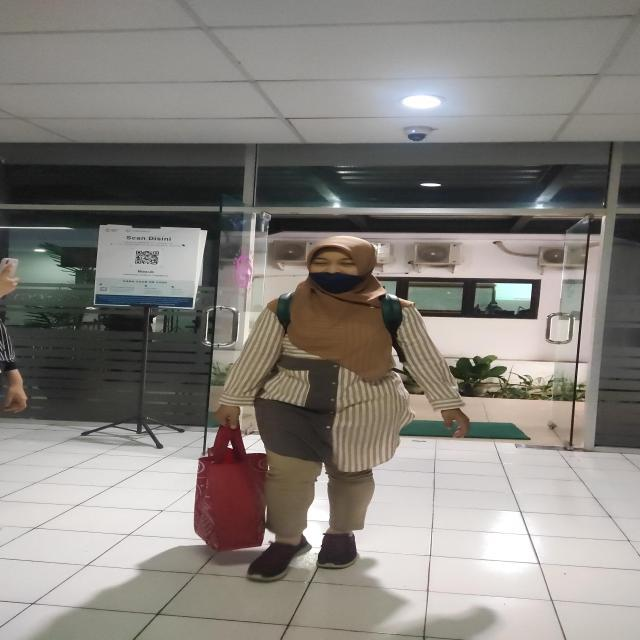hairnet: (297, 233, 385, 296)
